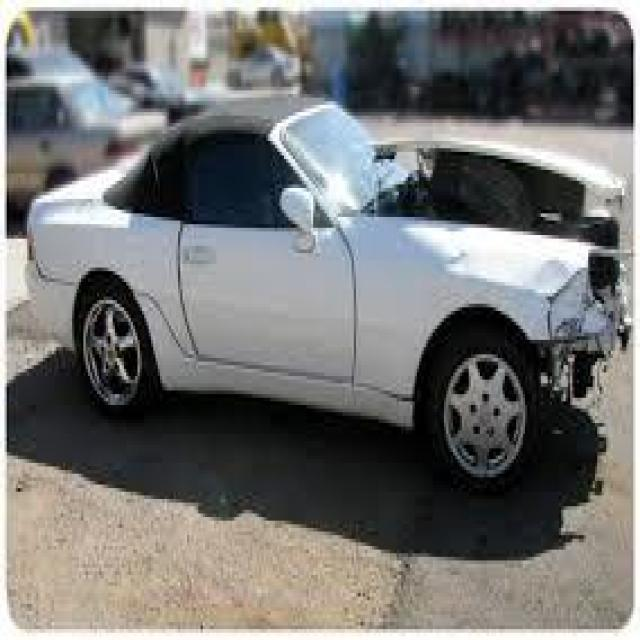damaged: (366, 134, 628, 408)
